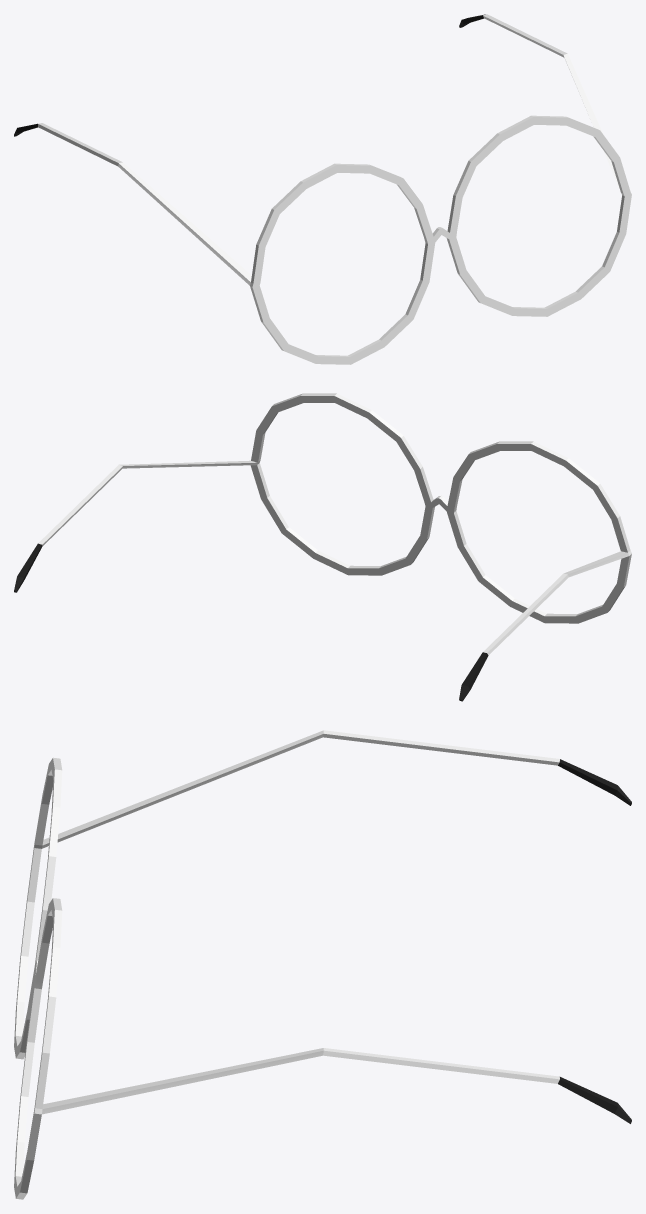
Rendered from g_white.glb.
3 renders of one model, top to bottom at view 1: azimuth 30°, elevation 25°; view 2: azimuth 150°, elevation 25°; view 3: azimuth 270°, elevation 25°, orthographic. The views are drawn at different scales.
Visible parts, largest first — view 1: acc_glasses; view 2: acc_glasses; view 3: acc_glasses.
Boxes of the visible parts, x1=… form: acc_glasses: x1=14, y1=14, x2=631, y2=364; acc_glasses: x1=14, y1=393, x2=631, y2=701; acc_glasses: x1=14, y1=730, x2=631, y2=1199.
Size of the model in its own units: 17.47 by 7.01 by 14.11.
1 material, 1 textured.
